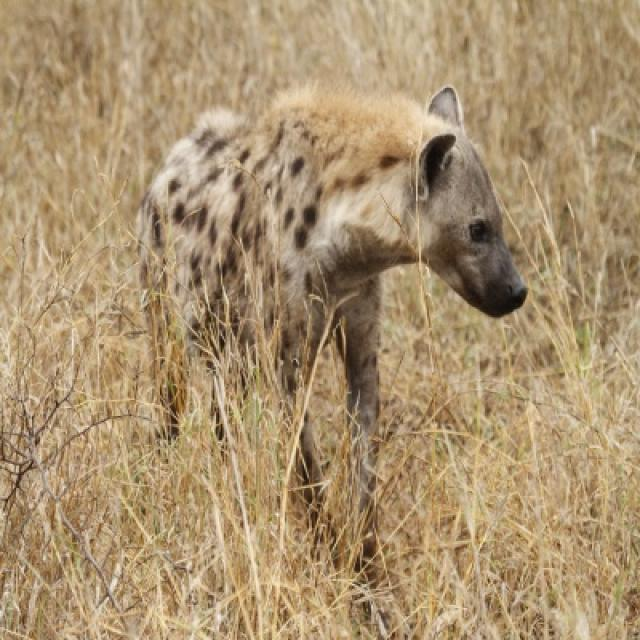hyena: (136, 86, 530, 501)
